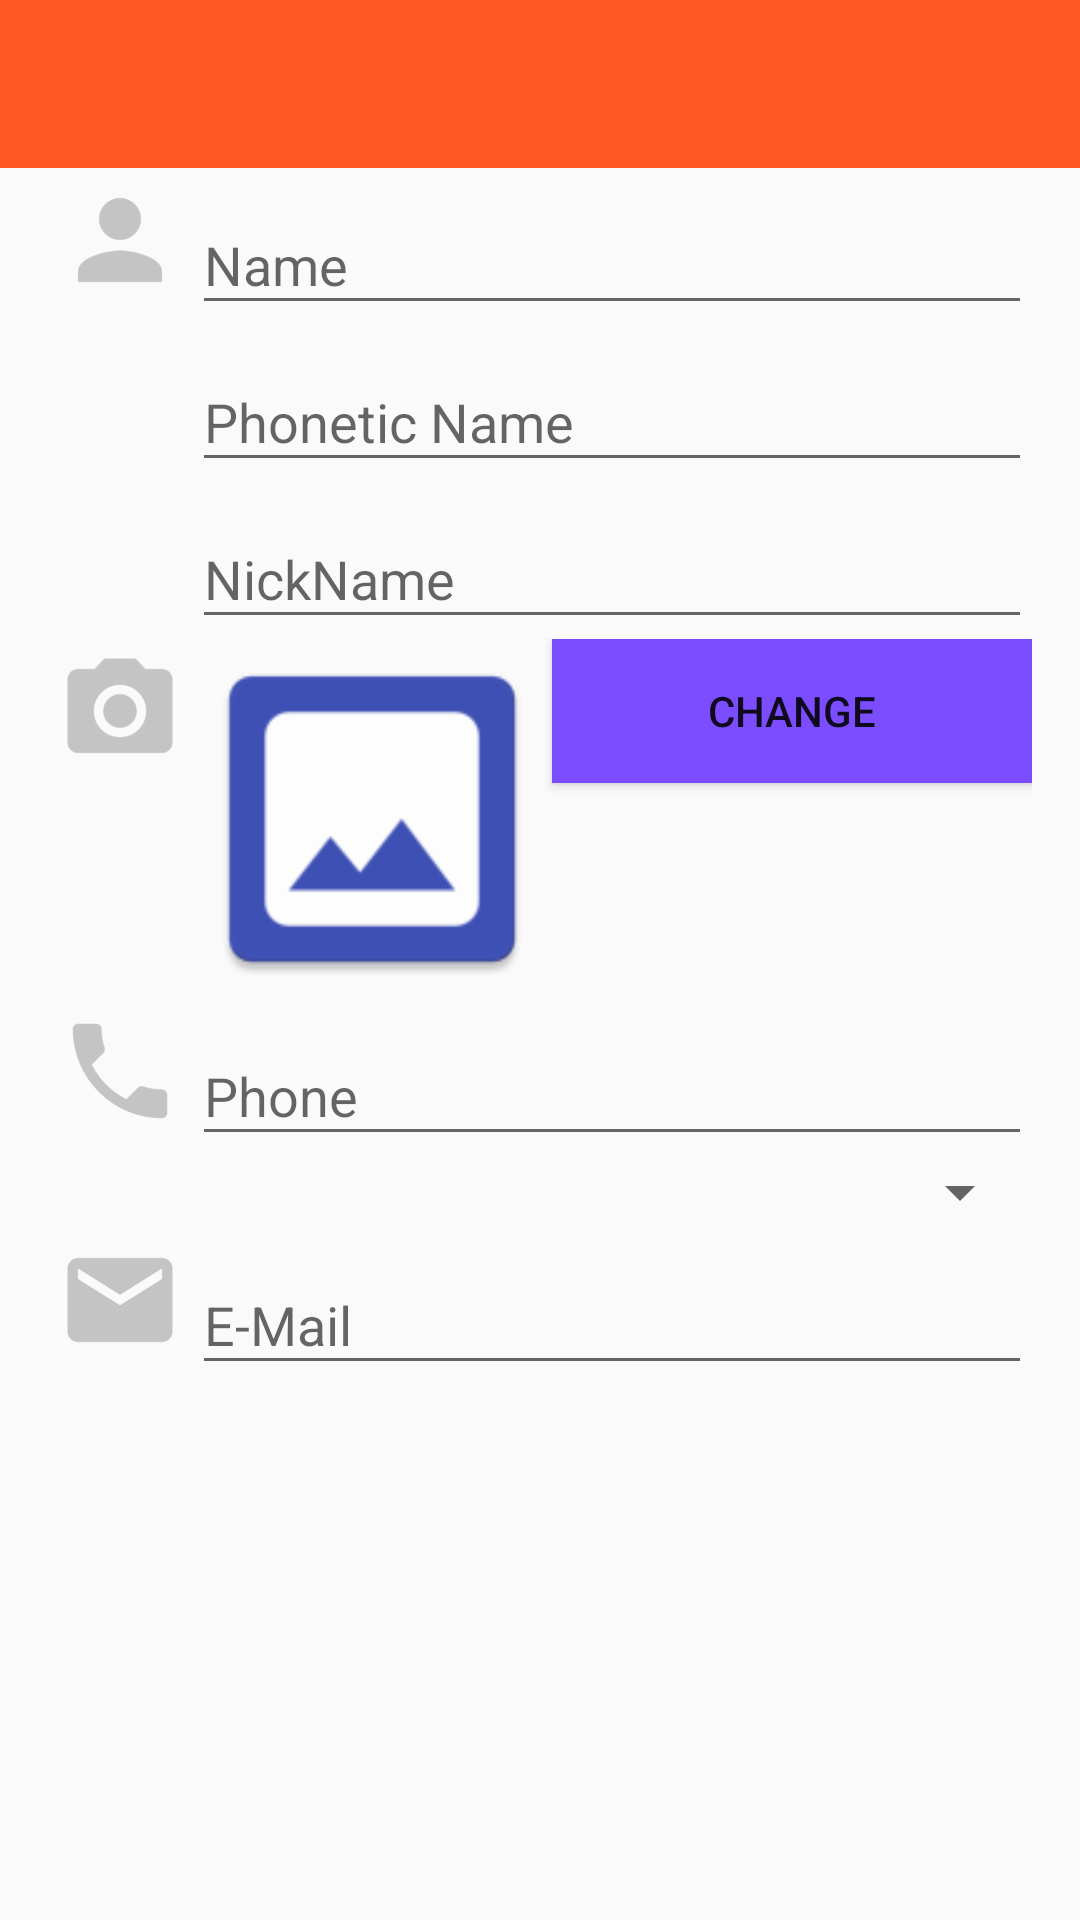

Where icons sit on this 1080×1920 app screen, as (x1, y1, x2, y2):
Profile Picture: (227, 675, 517, 970)
User icon: (78, 198, 162, 282)
